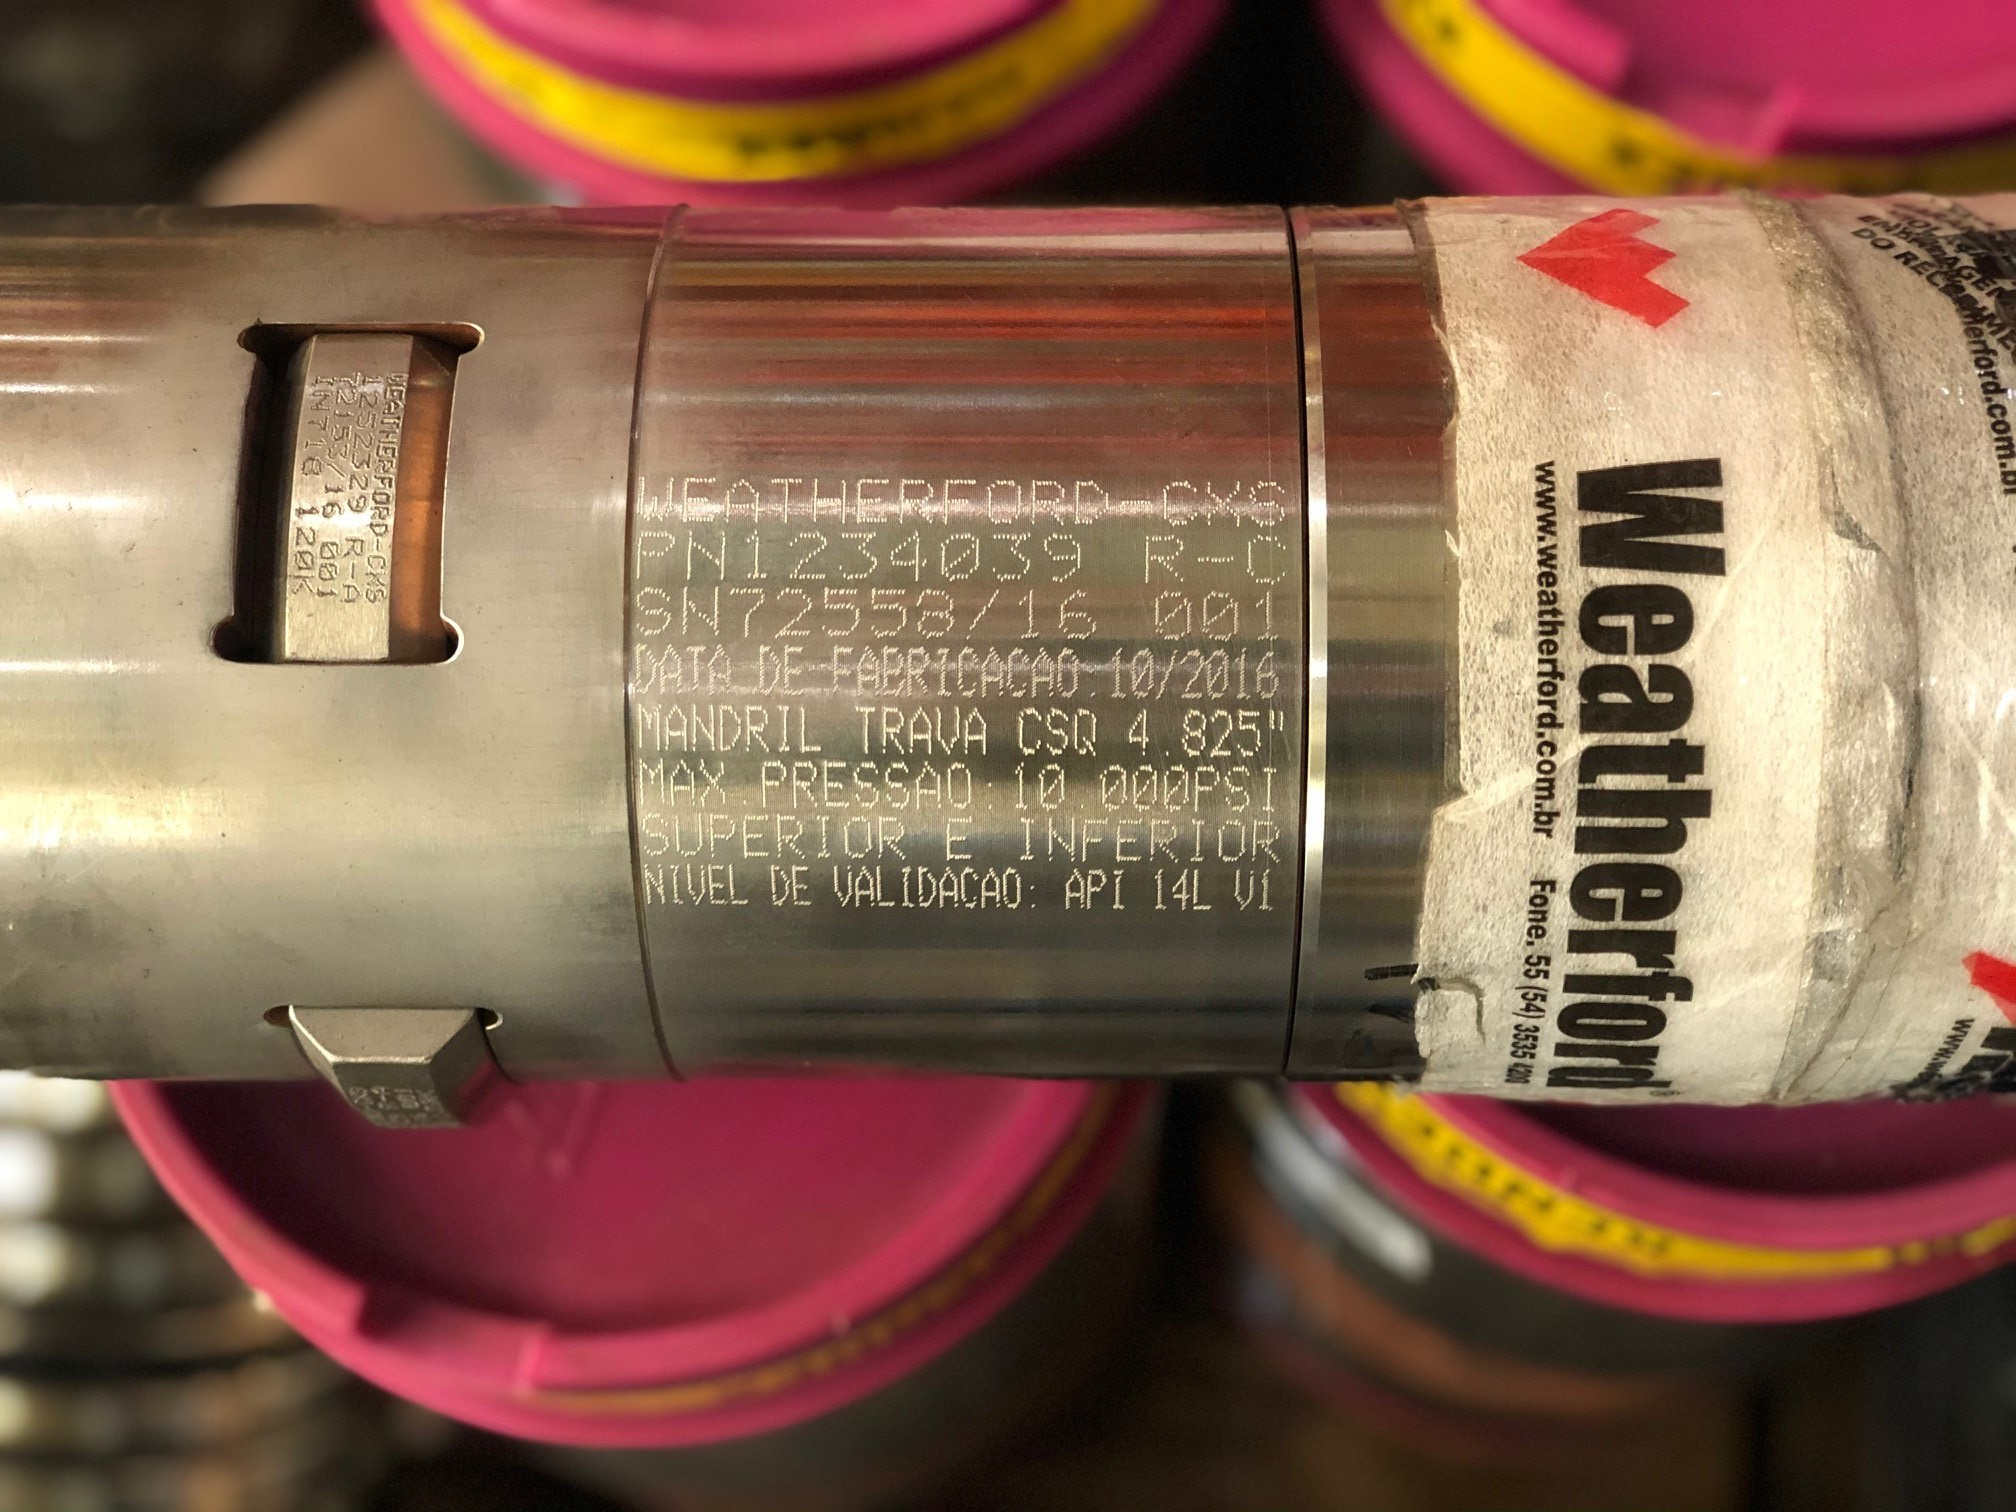character: (1127, 535, 1194, 591), (679, 524, 737, 583), (1035, 527, 1091, 588), (768, 578, 818, 643), (721, 465, 771, 527), (849, 464, 894, 534), (891, 461, 935, 530), (775, 526, 830, 581), (1051, 584, 1105, 642), (803, 467, 849, 534), (676, 464, 725, 526), (1195, 581, 1245, 643), (1067, 465, 1114, 529), (929, 530, 987, 581), (883, 519, 930, 581), (1157, 470, 1203, 534), (830, 526, 883, 581), (954, 583, 1003, 642), (764, 467, 811, 527), (818, 578, 865, 638), (1240, 534, 1294, 586), (1148, 584, 1195, 643), (976, 465, 1022, 526), (679, 581, 725, 642), (725, 581, 770, 643), (630, 527, 679, 583), (986, 526, 1035, 581), (1003, 584, 1051, 642), (937, 465, 976, 534), (865, 580, 911, 638), (1022, 465, 1067, 526), (1203, 473, 1246, 535), (911, 580, 954, 642), (1114, 470, 1160, 527), (627, 588, 675, 638), (1249, 584, 1287, 648), (632, 472, 678, 524), (1246, 473, 1287, 530), (692, 754, 729, 818), (737, 524, 776, 581), (1194, 535, 1240, 584), (735, 805, 776, 859), (940, 808, 981, 862), (1091, 764, 1133, 815), (1154, 762, 1195, 815), (768, 812, 810, 864), (1041, 812, 1081, 866), (871, 815, 916, 861), (1145, 818, 1186, 867), (786, 756, 822, 812), (1108, 812, 1145, 867), (632, 754, 670, 807), (1211, 815, 1249, 867), (1245, 818, 1287, 864), (910, 758, 946, 812), (752, 642, 784, 704), (1175, 646, 1208, 705), (1068, 704, 1103, 759), (976, 643, 1008, 704), (810, 804, 841, 864), (851, 643, 884, 700), (756, 751, 789, 808), (849, 754, 883, 812), (876, 704, 911, 758), (941, 762, 976, 816), (1032, 761, 1067, 815), (630, 700, 667, 751), (837, 808, 871, 861), (633, 864, 673, 910), (960, 700, 991, 761), (824, 643, 856, 700), (849, 700, 881, 758), (1119, 707, 1157, 754), (819, 754, 851, 812), (1249, 650, 1283, 704), (1232, 708, 1267, 759), (1029, 642, 1057, 704), (703, 642, 735, 697), (1003, 638, 1030, 704), (703, 807, 737, 859), (686, 705, 721, 754), (671, 808, 706, 858), (656, 642, 687, 696), (1013, 704, 1045, 758), (1178, 704, 1210, 758), (637, 812, 673, 858), (741, 700, 771, 756), (795, 699, 825, 754), (779, 642, 806, 704), (1189, 764, 1221, 816), (1125, 645, 1154, 702), (879, 643, 910, 697), (906, 704, 937, 758), (933, 697, 960, 758), (1041, 704, 1071, 758), (883, 758, 913, 812), (787, 858, 818, 912), (849, 862, 878, 918), (905, 646, 935, 699), (627, 642, 656, 696), (716, 700, 744, 754), (667, 754, 695, 808), (1181, 816, 1211, 867), (956, 645, 981, 704), (1154, 645, 1179, 704), (1206, 704, 1233, 758), (1006, 758, 1033, 812), (1081, 812, 1108, 866), (1056, 646, 1081, 704), (773, 699, 798, 756), (1164, 866, 1192, 916), (1256, 762, 1283, 815), (1221, 762, 1249, 812), (892, 862, 921, 912), (933, 864, 962, 913), (681, 642, 706, 696), (1205, 646, 1230, 700), (1130, 764, 1159, 812), (829, 856, 854, 908), (1079, 867, 1108, 913), (1189, 866, 1214, 916), (956, 864, 981, 913), (871, 861, 895, 913), (935, 645, 956, 704), (1106, 650, 1130, 700), (768, 858, 794, 905), (1229, 648, 1251, 702), (1143, 867, 1172, 908), (665, 707, 689, 756), (725, 859, 749, 908), (1103, 867, 1129, 913), (1002, 864, 1025, 912), (684, 858, 706, 908), (976, 869, 1003, 910), (710, 859, 732, 908), (1062, 869, 1087, 912), (1232, 870, 1257, 912), (1016, 815, 1037, 864), (668, 858, 687, 910), (918, 864, 937, 915), (1256, 866, 1276, 912)
